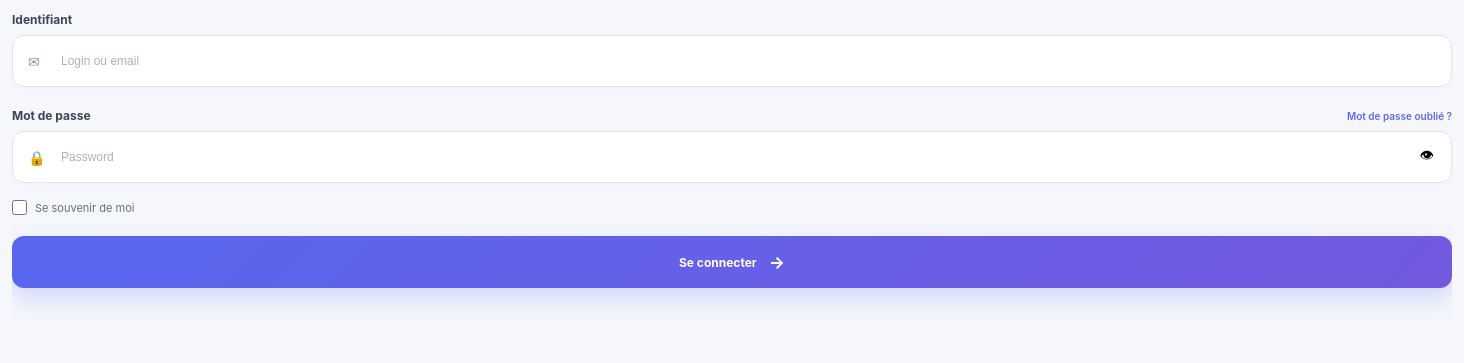
it: <LoginForm /> › affiche une erreur sur des identifiants inconnus
Type "Inconnu" into the field labelled "Identifiant" at x=732, y=61, box [12,35,1452,87]
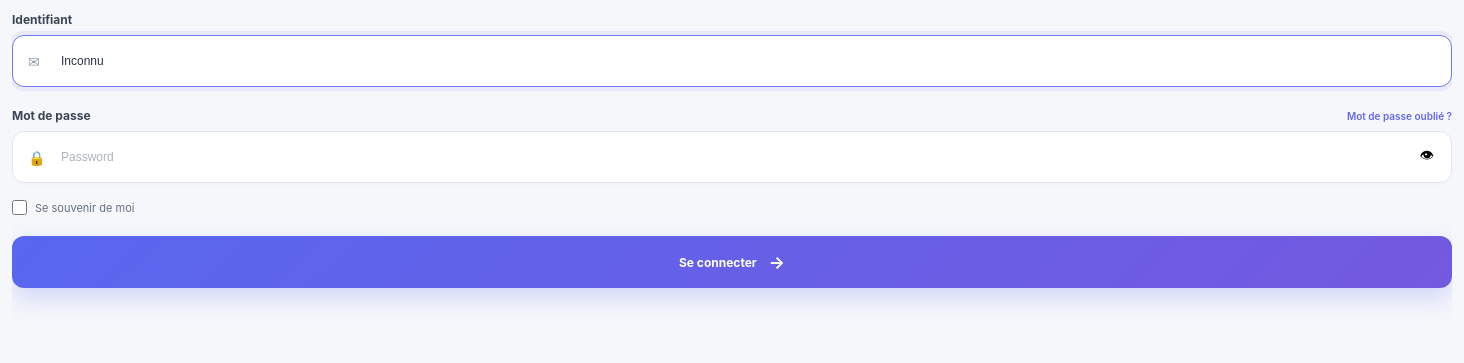
Type "xxx" into the password field labelled "Mot de passe" at x=732, y=157, box [12,131,1452,183]
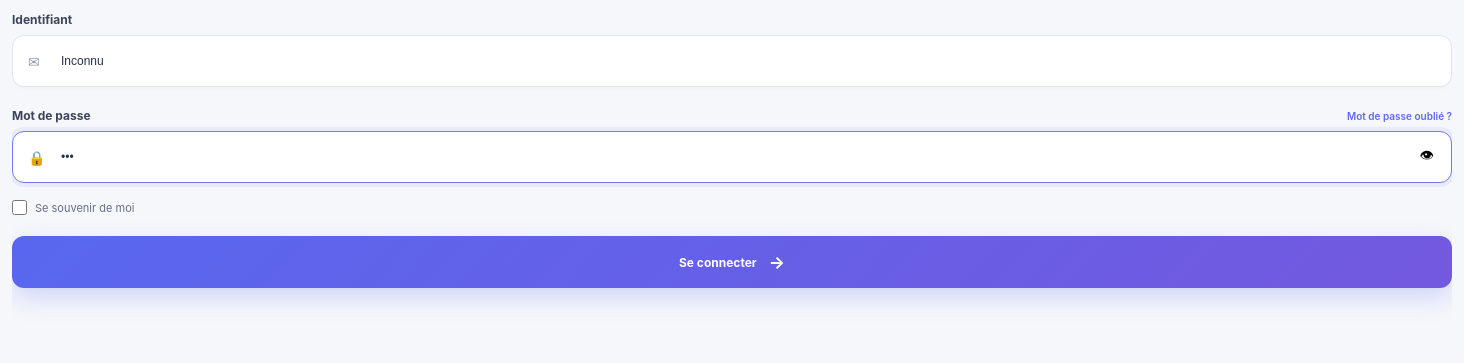
Click the button "Se connecter →" at x=732, y=262, box [12,236,1452,288]
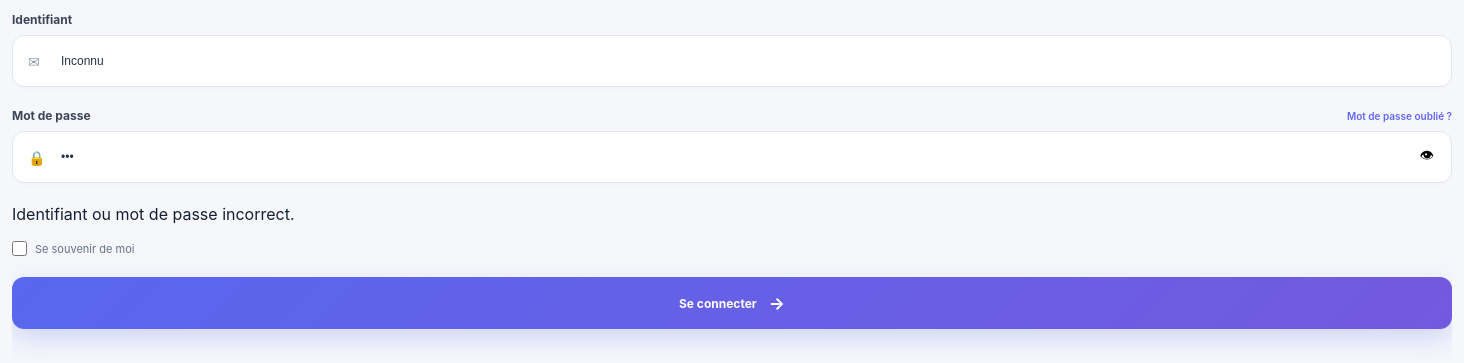
Expected: the text "Identifiant ou mot de passe incorrect." is shown, [12,204,294,224]
